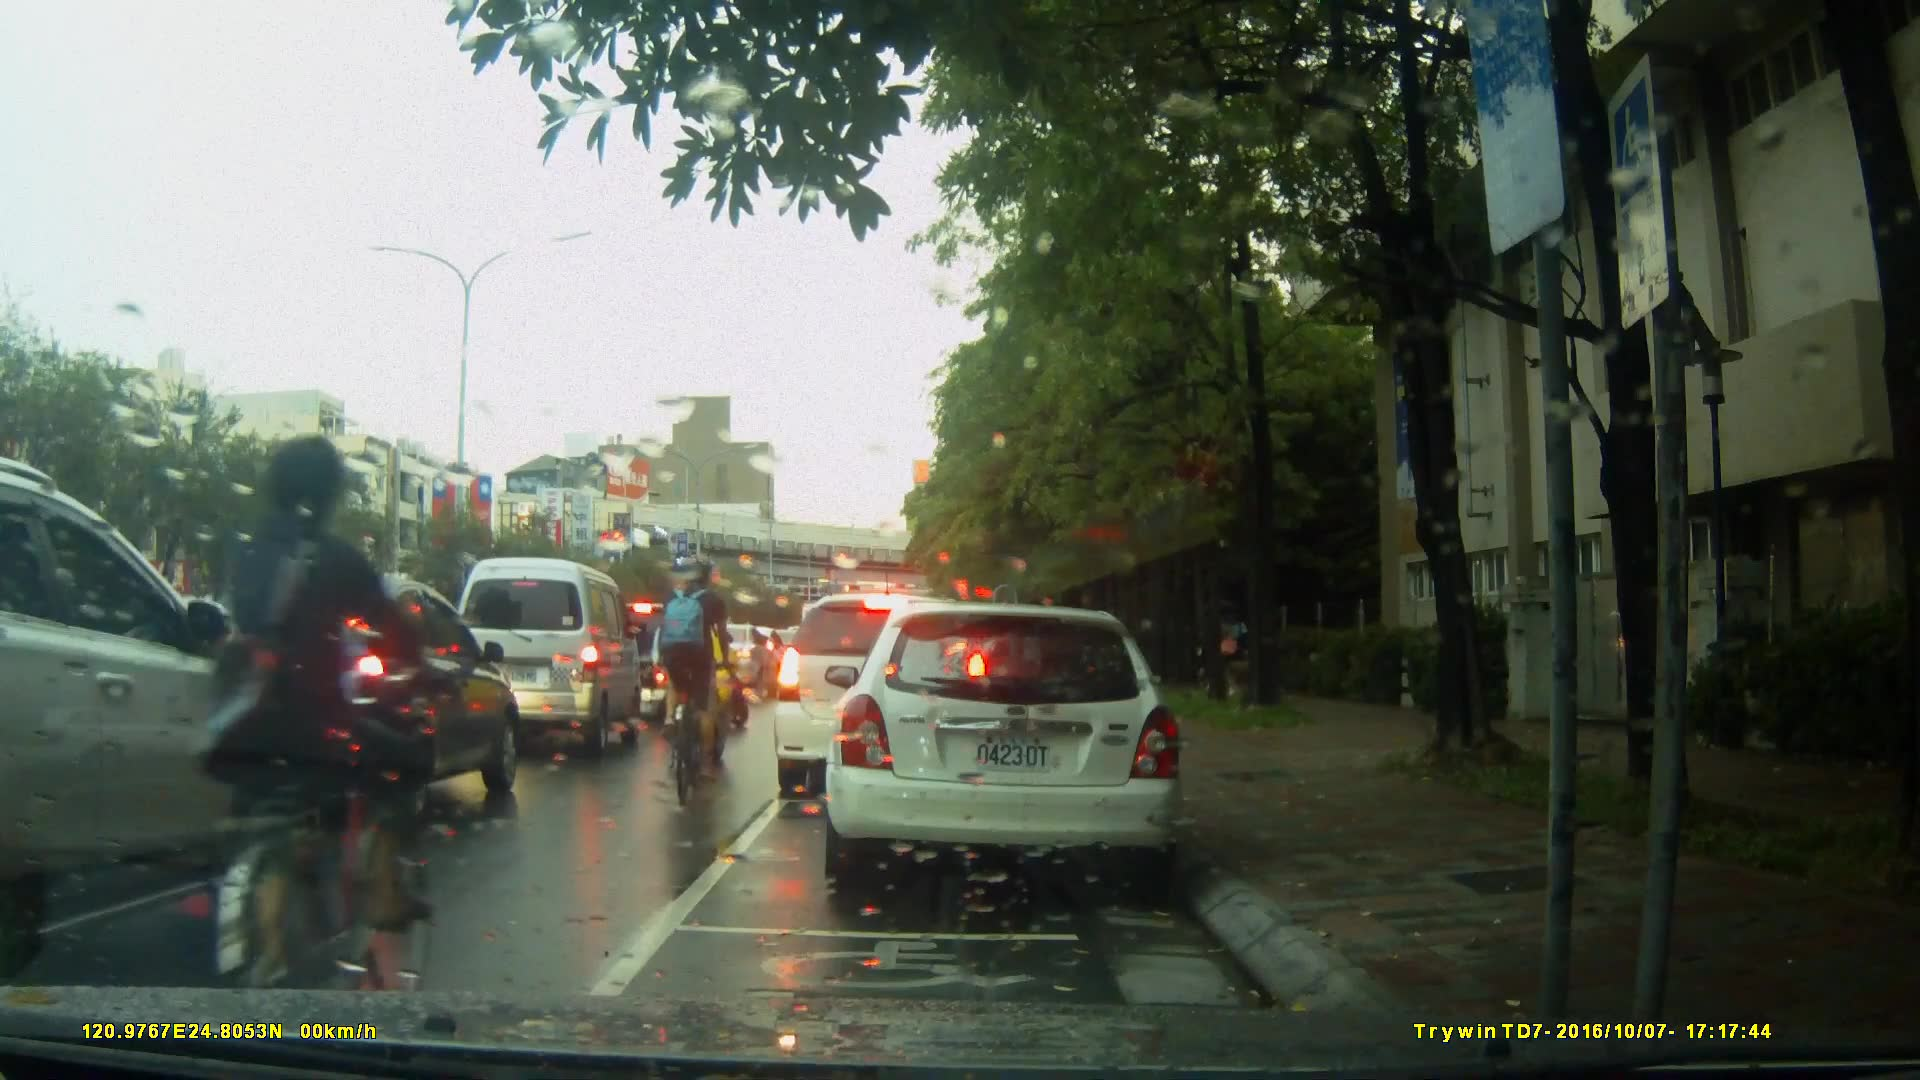rider: (202, 438, 428, 1014), (665, 556, 727, 803), (659, 595, 731, 768)
vehicle: (1, 445, 327, 987), (815, 593, 1204, 909), (178, 573, 529, 831), (770, 591, 993, 800), (445, 557, 649, 764), (599, 599, 741, 718)
